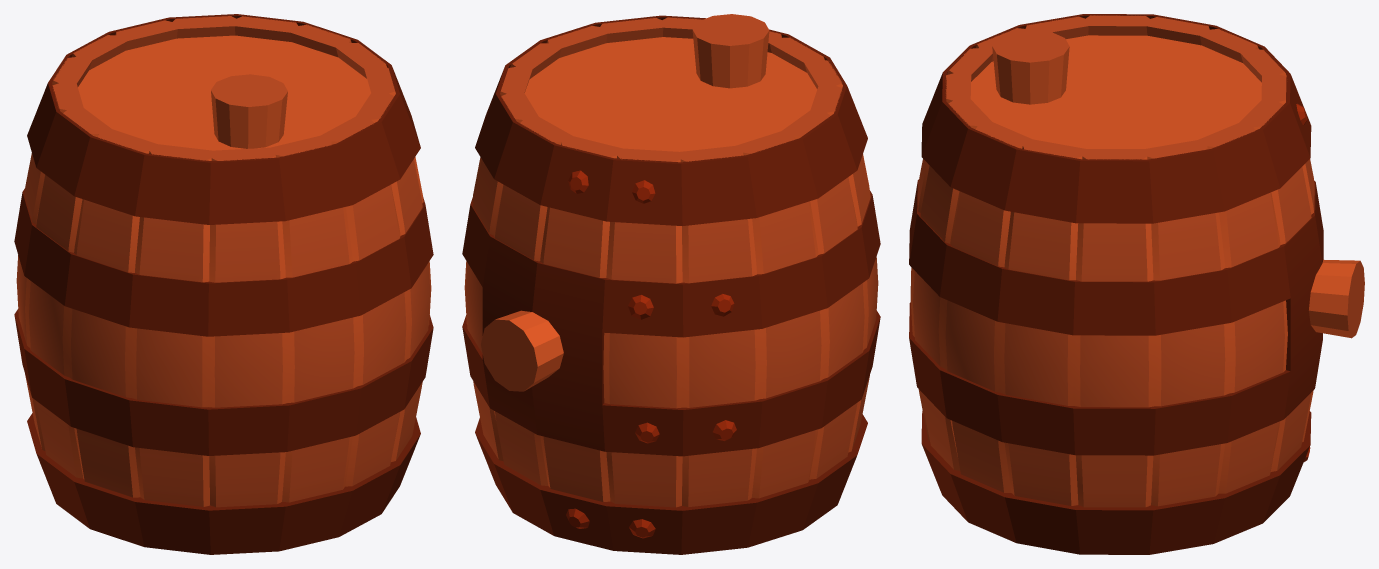
Rendered from winter_castle_item18.glb.
The picture shows the model from 3 angles, left to right: view 1: azimuth 30°, elevation 25°; view 2: azimuth 150°, elevation 25°; view 3: azimuth 270°, elevation 25°; orthographic projection.
Visible parts, largest first — view 1: Item18_Medieval_0; view 2: Item18_Medieval_0; view 3: Item18_Medieval_0.
Part boxes in pixels (x1=…): Item18_Medieval_0: x1=14, y1=14, x2=433, y2=554; Item18_Medieval_0: x1=462, y1=14, x2=880, y2=554; Item18_Medieval_0: x1=909, y1=14, x2=1364, y2=554.
Bounding box in the file's own units: 0.4023 × 0.4575 × 0.4422.
1 material, 1 textured.
